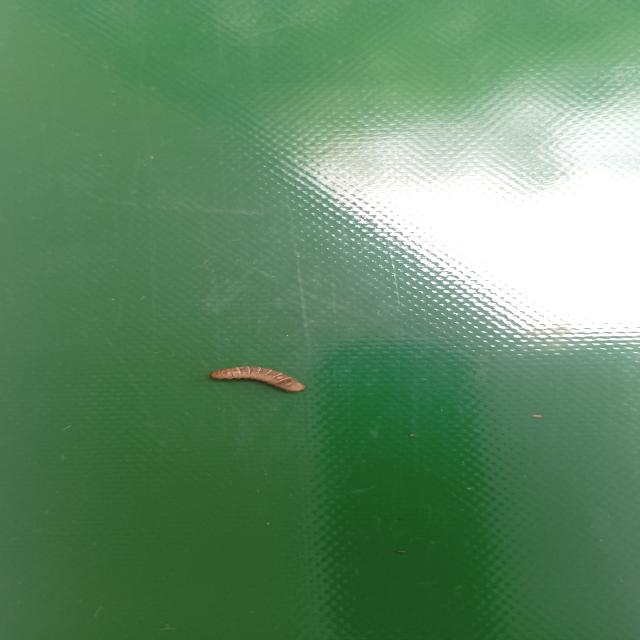Maggot: (209, 365, 305, 395)
